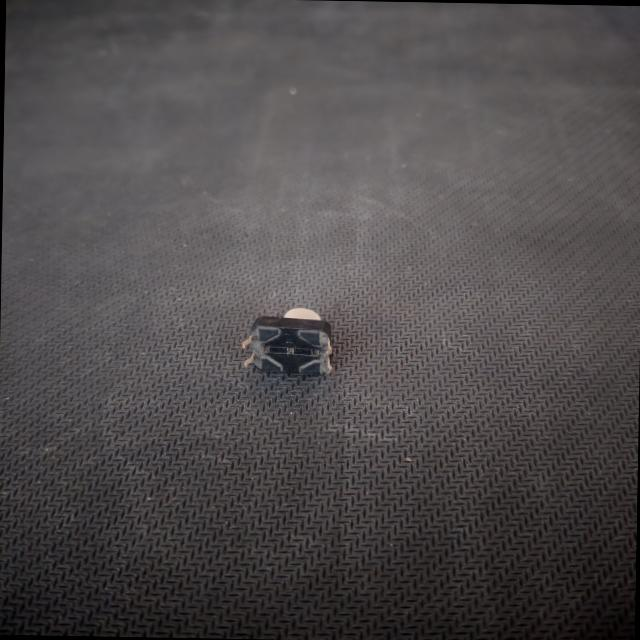switch: (230, 299, 344, 386)
